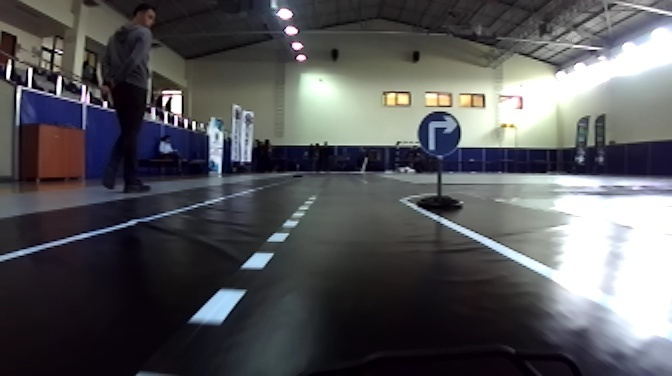saga_donus: (416, 108, 461, 154)
